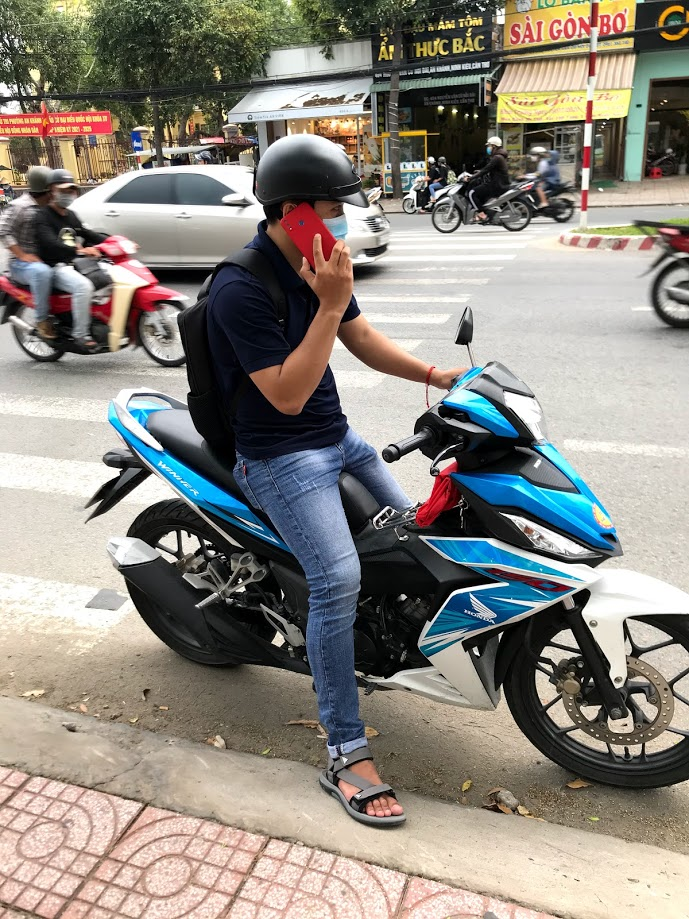dieu khien xe may: (228, 135, 620, 632)
su dung dien thoai: (250, 137, 366, 317)
